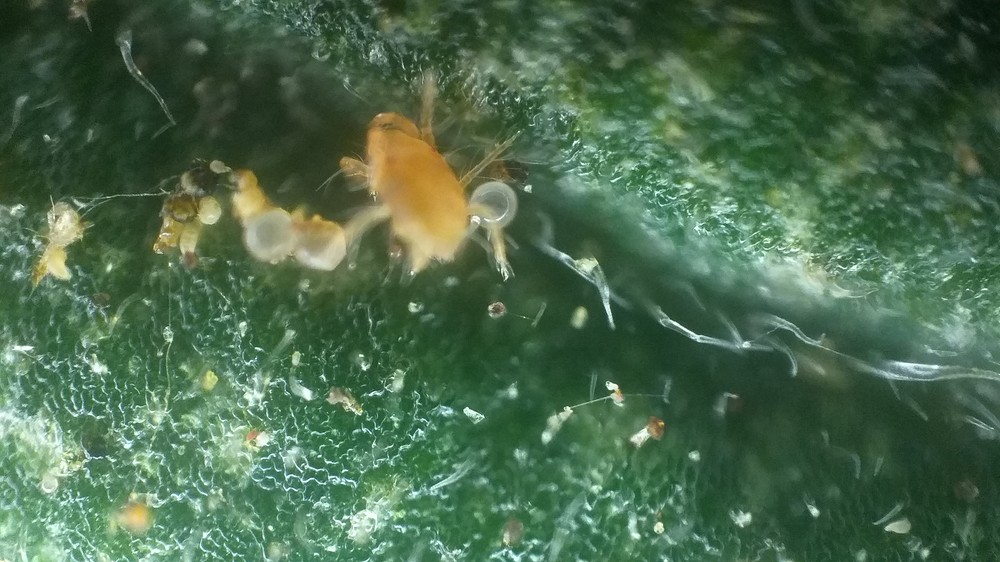Aracnido Rojo: (300, 77, 540, 299)
